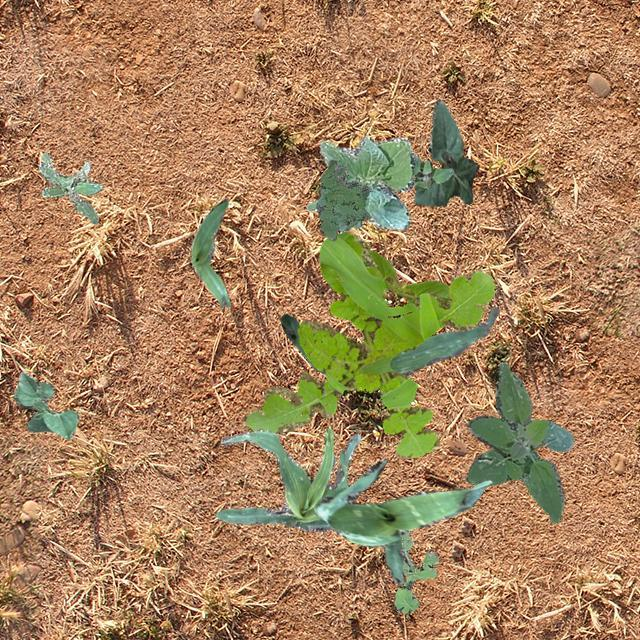crop: (312, 458, 490, 584), (280, 306, 498, 376), (214, 426, 360, 530), (306, 136, 414, 228), (413, 99, 478, 204), (366, 248, 448, 304), (14, 369, 76, 438), (190, 198, 228, 306)
weed: (242, 230, 494, 458), (464, 362, 572, 522), (38, 152, 102, 222), (316, 158, 370, 240), (393, 530, 438, 614), (412, 154, 452, 188)
